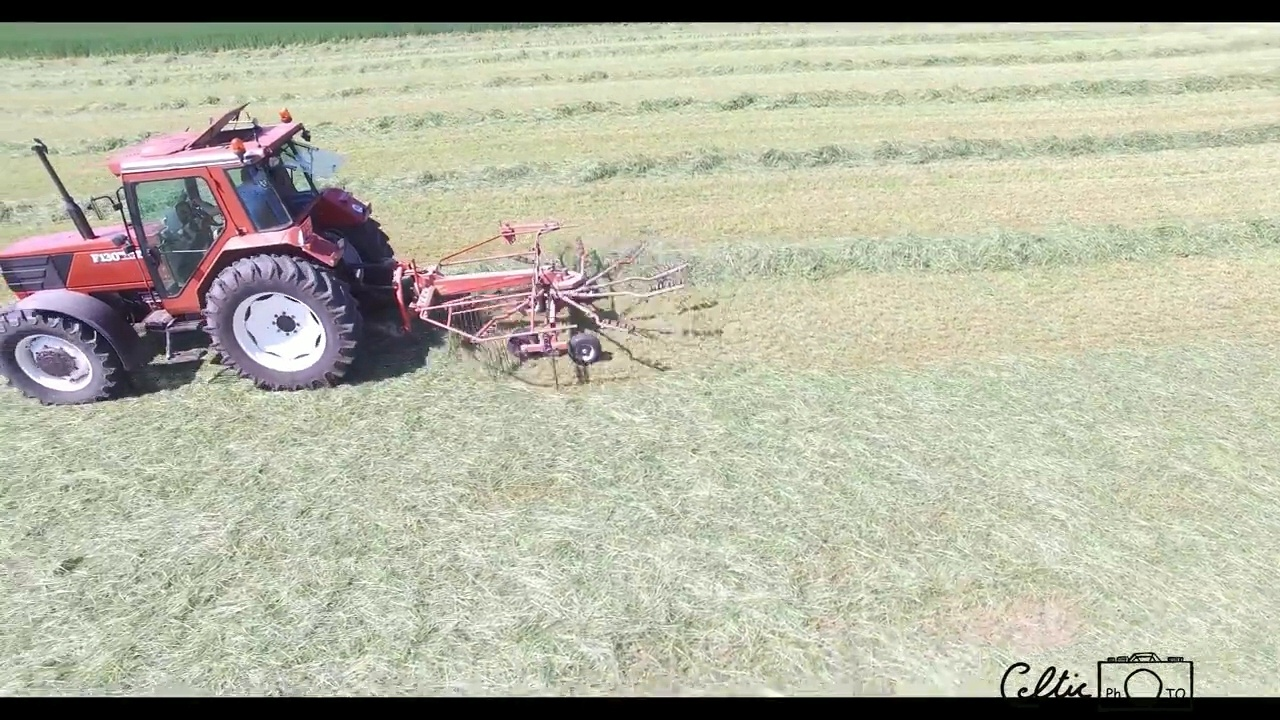traktor: (2, 101, 396, 399)
